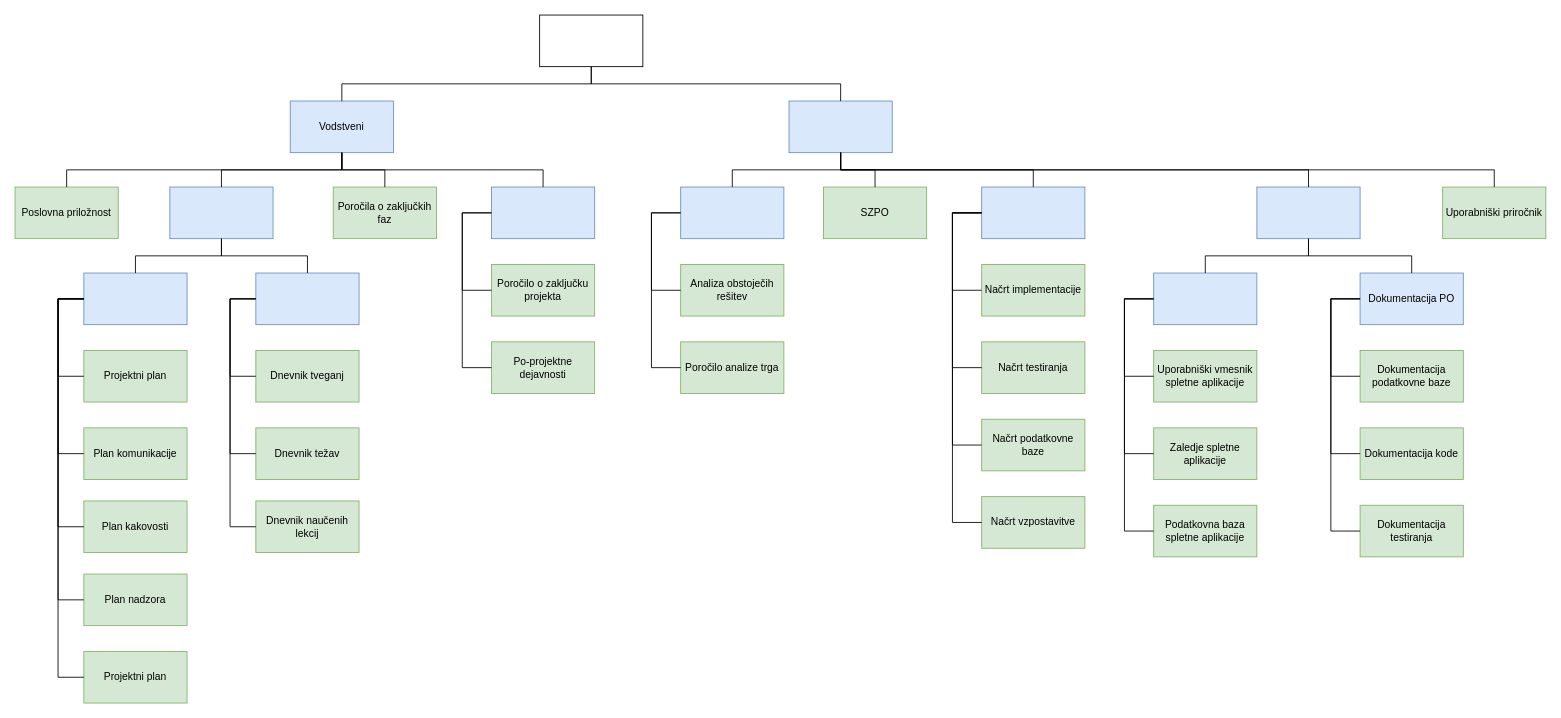
This 1561x718 diagram has some shape labels left out. The centre of each missing label's shape, as x and y in pixels:
Analiza trga: (732,212)
Dnevniki: (307,298)
Načrti: (1033,212)
Plani: (135,298)
Pr. oprema in dokumentacija: (1308,212)
Programska oprema: (1205,298)
Specialistični: (840,126)
Spletna aplikacija ThreatInsight: (591,40)
Vzpostavitveni dokumenti: (221,212)
Zaključni dokumenti: (543,212)
